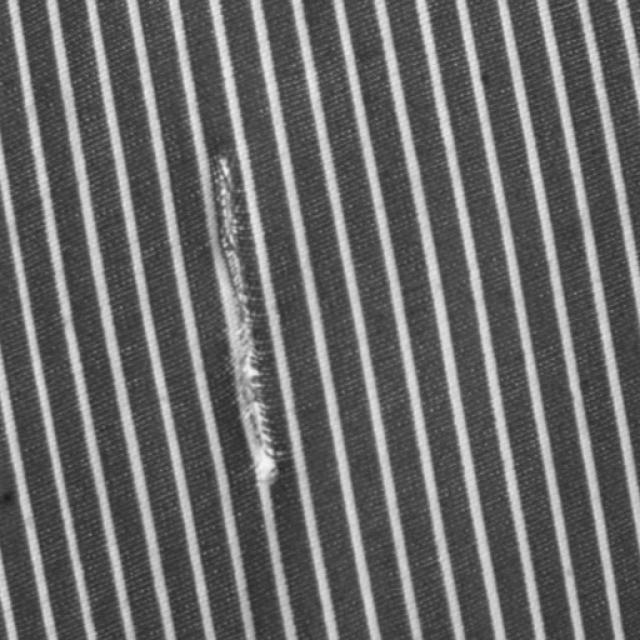Hole-Defect: (206, 156, 290, 486)
